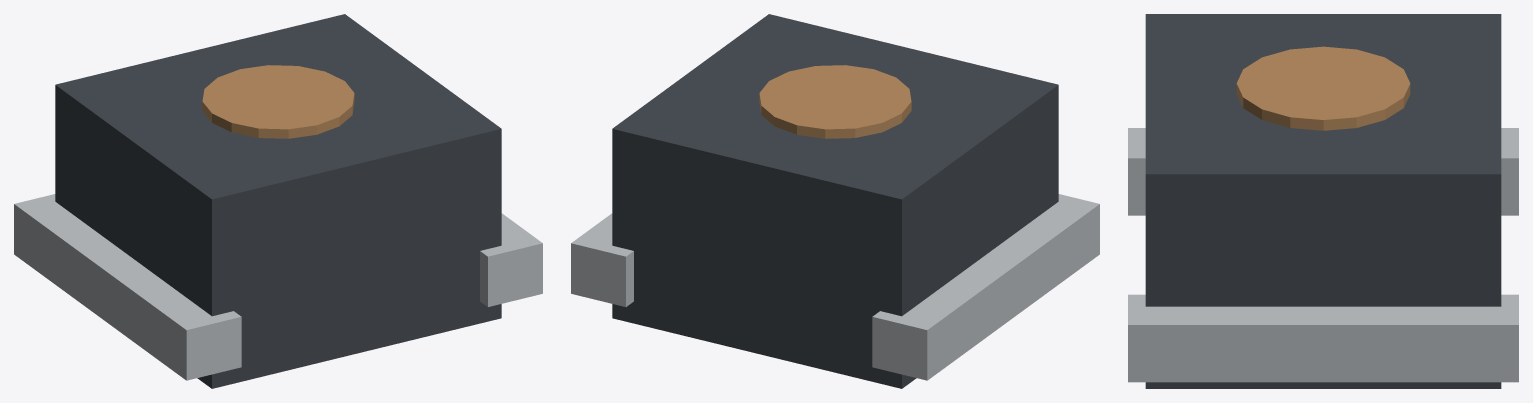
The picture shows the model from 3 angles, left to right: view 1: azimuth 30°, elevation 25°; view 2: azimuth 150°, elevation 25°; view 3: azimuth 270°, elevation 25°; orthographic projection. The views are drawn at different scales.
Visible parts, largest first — view 1: 000_Black_Epoxy__PSMAT__Black_Epoxy, 001_Solder_Tin__PSMAT__Solder_Tin, 003_Copper_Amber__PSMAT__Copper_Amber, 002_Solder_Tin__PSMAT__Solder_Tin; view 2: 000_Black_Epoxy__PSMAT__Black_Epoxy, 001_Solder_Tin__PSMAT__Solder_Tin, 003_Copper_Amber__PSMAT__Copper_Amber, 002_Solder_Tin__PSMAT__Solder_Tin; view 3: 000_Black_Epoxy__PSMAT__Black_Epoxy, 002_Solder_Tin__PSMAT__Solder_Tin, 003_Copper_Amber__PSMAT__Copper_Amber, 001_Solder_Tin__PSMAT__Solder_Tin.
Boxes of the visible parts, x1,y1,x2,y2 form: 000_Black_Epoxy__PSMAT__Black_Epoxy: (55, 14, 501, 388); 001_Solder_Tin__PSMAT__Solder_Tin: (14, 194, 241, 380); 003_Copper_Amber__PSMAT__Copper_Amber: (202, 65, 354, 138); 002_Solder_Tin__PSMAT__Solder_Tin: (480, 213, 542, 306); 000_Black_Epoxy__PSMAT__Black_Epoxy: (612, 14, 1058, 388); 001_Solder_Tin__PSMAT__Solder_Tin: (872, 194, 1099, 380); 003_Copper_Amber__PSMAT__Copper_Amber: (759, 65, 911, 138); 002_Solder_Tin__PSMAT__Solder_Tin: (571, 213, 633, 306); 000_Black_Epoxy__PSMAT__Black_Epoxy: (1145, 14, 1501, 388); 002_Solder_Tin__PSMAT__Solder_Tin: (1128, 294, 1518, 382); 003_Copper_Amber__PSMAT__Copper_Amber: (1236, 46, 1410, 130); 001_Solder_Tin__PSMAT__Solder_Tin: (1128, 128, 1518, 215).
Size of the model in its own units: 0.0059 by 0.00315 by 0.00495.
